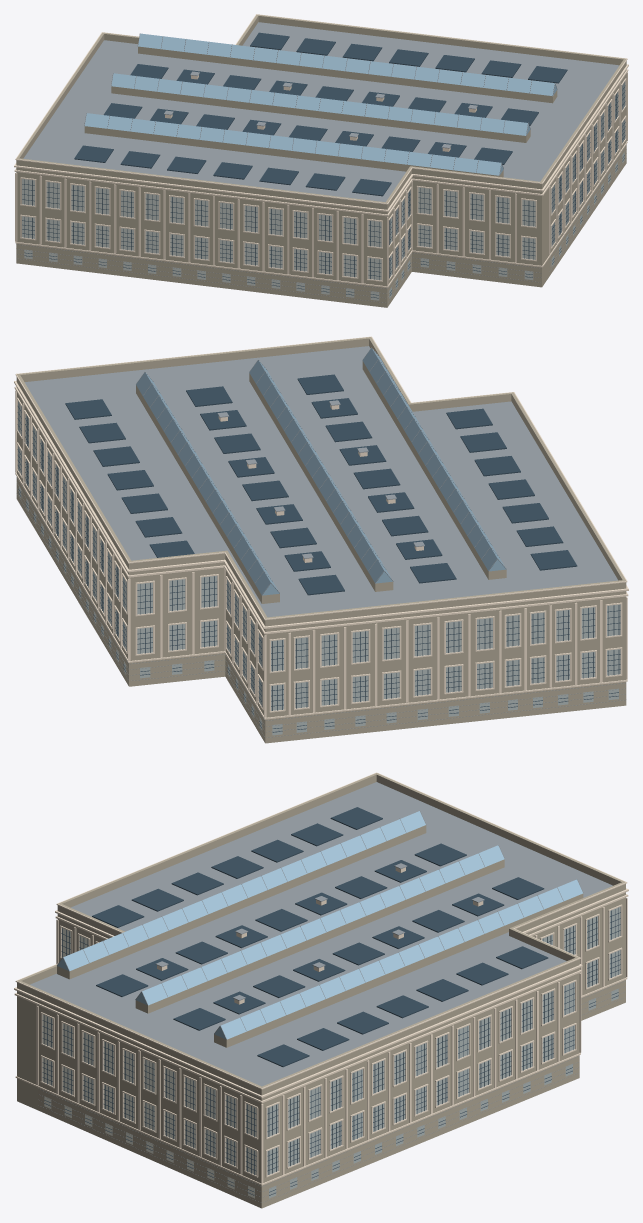
Rendered from detail.glb.
3 views of the same model, one above another, from view 1: azimuth 30°, elevation 25°; view 2: azimuth 150°, elevation 25°; view 3: azimuth 270°, elevation 25° (orthographic). The views are drawn at different scales.
Parts seen in each view (by area): view 1: stone, roof, metal, trim, window, glass; view 2: roof, stone, metal, trim, window, glass; view 3: stone, roof, metal, trim, window, glass.
Boxes of the visible parts, x1,y1,x2,y2 form: stone: (16, 14, 626, 307); roof: (16, 22, 626, 303); metal: (22, 32, 625, 298); trim: (14, 14, 628, 287); window: (22, 81, 625, 300); glass: (85, 33, 556, 175); roof: (16, 346, 625, 737); stone: (16, 337, 626, 743); metal: (17, 374, 620, 732); trim: (14, 336, 628, 719); window: (18, 401, 620, 735); glass: (136, 348, 506, 595); stone: (17, 773, 625, 1208); roof: (30, 782, 625, 1202); metal: (42, 807, 620, 1195); trim: (14, 772, 628, 1185); window: (42, 906, 620, 1198); glass: (57, 811, 582, 1039).
Size of the model in its own units: 81.33 by 15.84 by 66.5.
